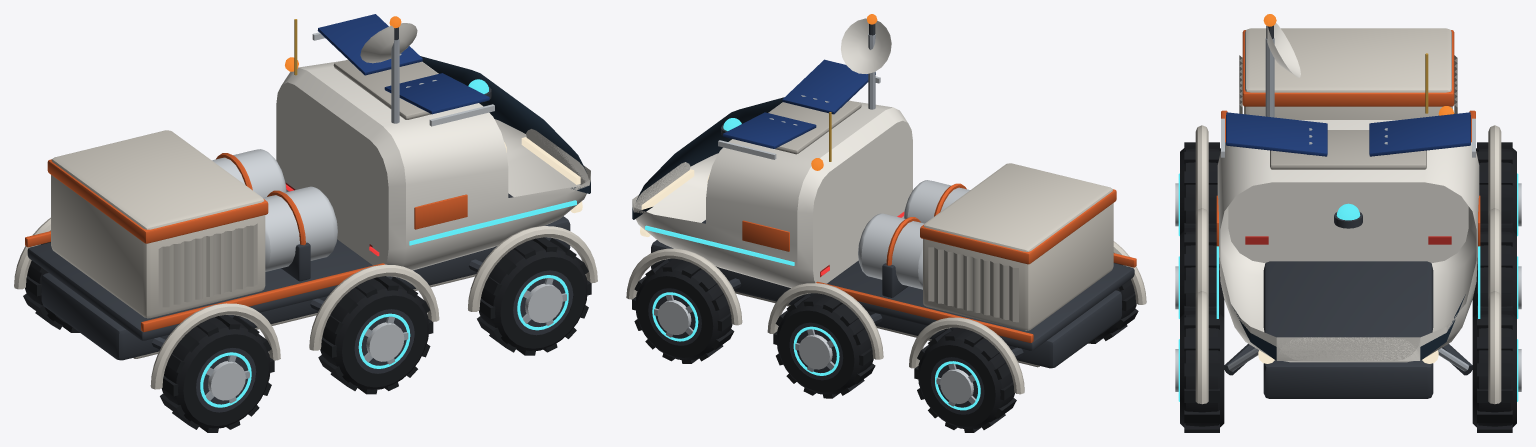
Rendered from cargo_rover.glb.
3 views of the same model, side by side, from view 1: azimuth 30°, elevation 25°; view 2: azimuth 150°, elevation 25°; view 3: azimuth 270°, elevation 25° (orthographic). The views are drawn at different scales.
Visible parts, largest first — view 1: cargo_rover; view 2: cargo_rover; view 3: cargo_rover.
Boxes of the visible parts, bbox=[...] form: cargo_rover: bbox=[14, 14, 597, 432]; cargo_rover: bbox=[626, 14, 1146, 432]; cargo_rover: bbox=[1175, 14, 1521, 432].
Size of the model in its own units: 4.53 by 3.02 by 2.65.
